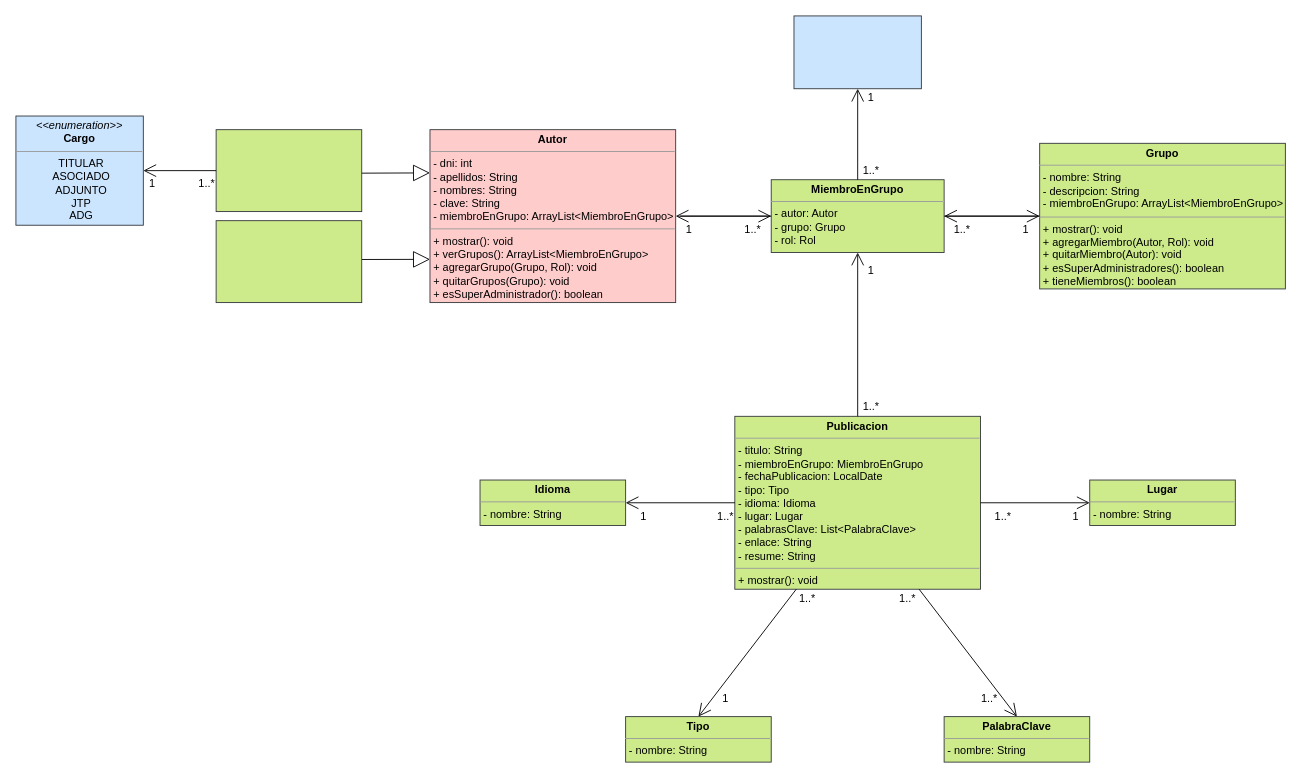
The diagram is 1301 pixels wide and 778 high, and some of its shapes have lost their labels. Each missing label, with the centre of its shape:
"<<enumeration>> Rol ADMINISTRADOR COLABORADOR" goes at point (857, 52).
"Alumno - cx: String + mostrar(): void" goes at point (288, 261).
"Profesor - cargo: Cargo + mostrar(): void" goes at point (288, 170).
